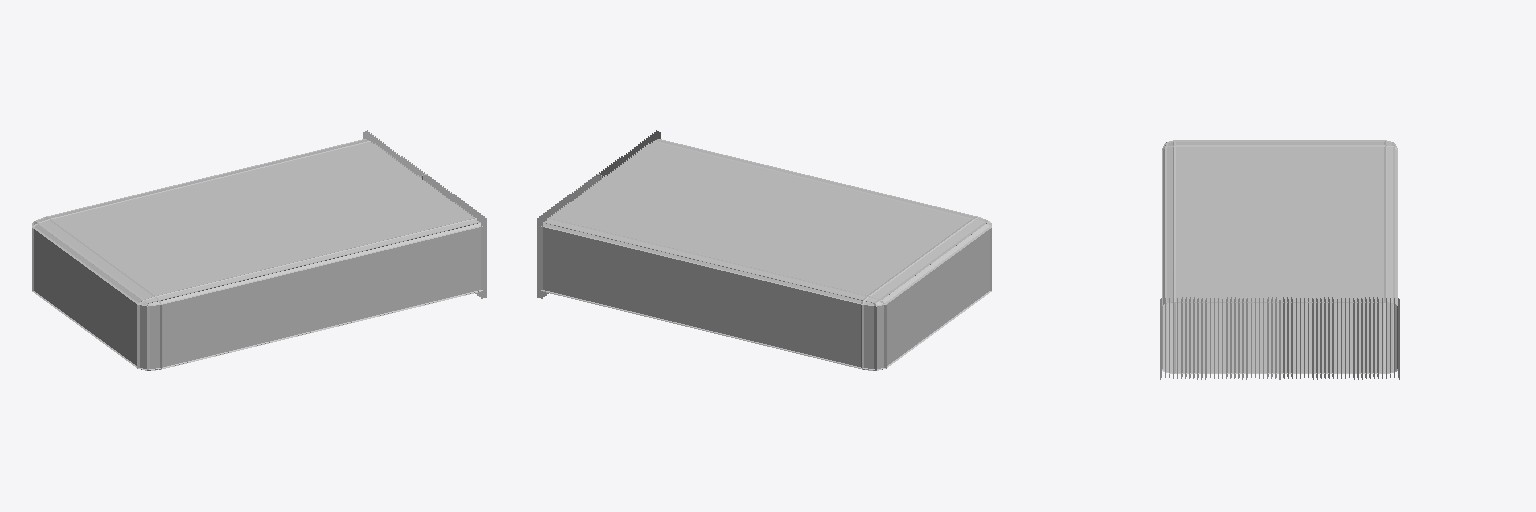
The model's file is chamber.obj.
3 renders of one model, left to right at view 1: azimuth 30°, elevation 25°; view 2: azimuth 150°, elevation 25°; view 3: azimuth 270°, elevation 25°, orthographic.
Visible parts, largest first — view 1: Plane; view 2: Plane; view 3: Plane.
Part boxes in pixels (left/top/right/bottom): Plane: left=32, top=130, right=486, bottom=370; Plane: left=537, top=130, right=991, bottom=370; Plane: left=1160, top=140, right=1399, bottom=379.
Size of the model in its own units: 10.13 by 2.27 by 6.11.